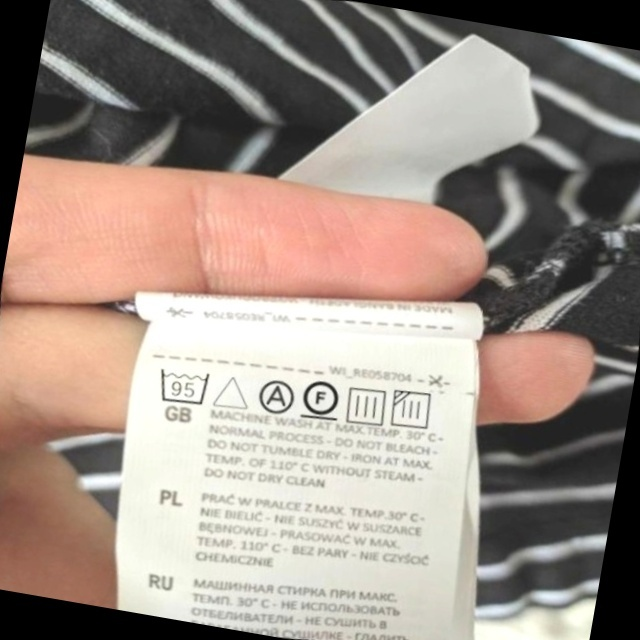95C: (151, 358, 218, 413)
bleach: (209, 366, 255, 417)
drip_dry: (339, 378, 394, 432)
drip_dry_in_shade: (385, 382, 442, 438)
dry_clean: (251, 373, 300, 420)
dry_clean_petrol_only: (296, 370, 347, 427)
